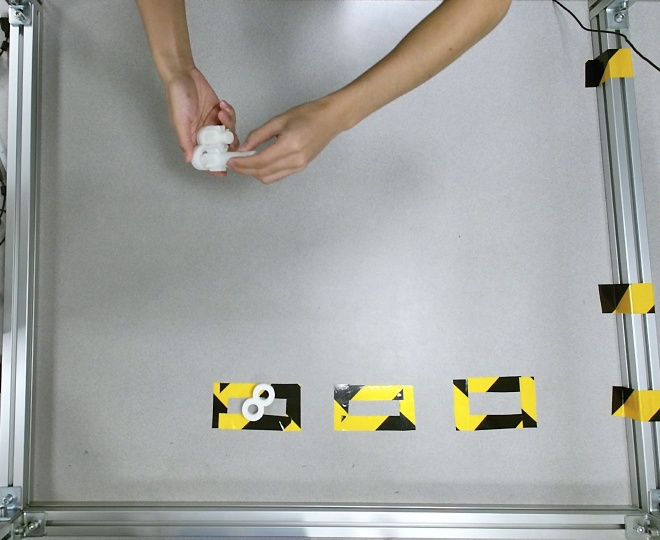stage_2: (191, 125, 235, 171)
